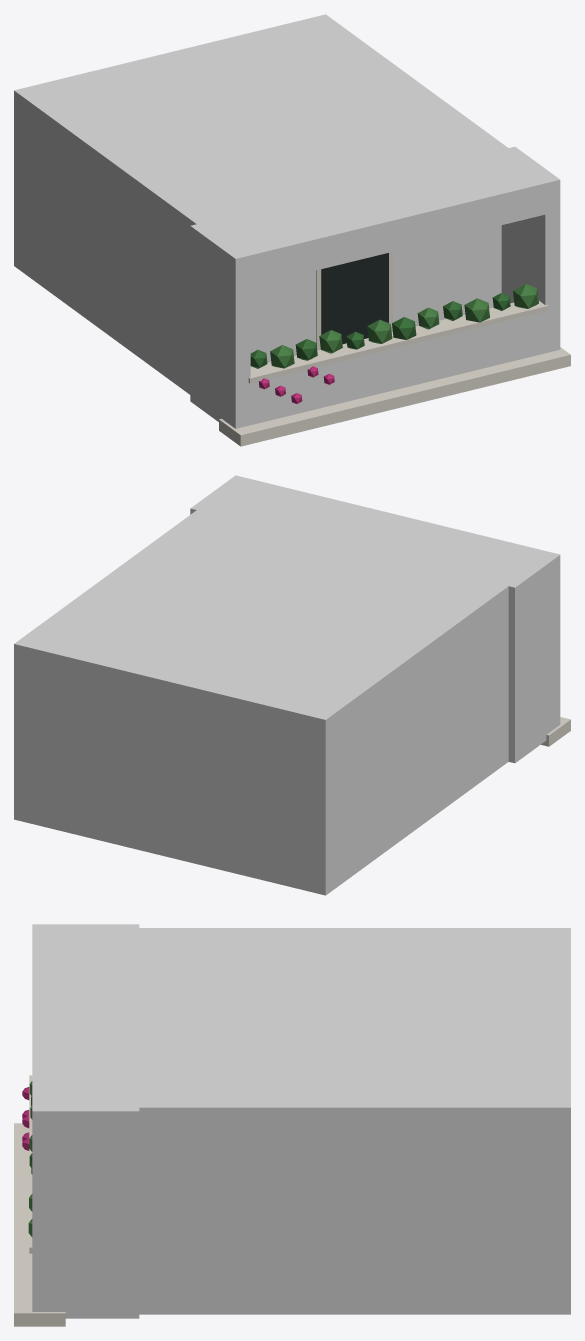
File: lau_lo_gia_60.glb
3 renders of one model, top to bottom at view 1: azimuth 30°, elevation 25°; view 2: azimuth 150°, elevation 25°; view 3: azimuth 270°, elevation 25°, orthographic. The views are drawn at different scales.
Visible parts, largest first — view 1: lau_lo_gia_60; view 2: lau_lo_gia_60; view 3: lau_lo_gia_60.
Boxes of the visible parts, x1,y1,x2,y2 form: lau_lo_gia_60: [14, 14, 570, 446]; lau_lo_gia_60: [14, 475, 570, 895]; lau_lo_gia_60: [14, 924, 570, 1326].
Size of the model in its own units: 6.1 by 3.2 by 7.55.
